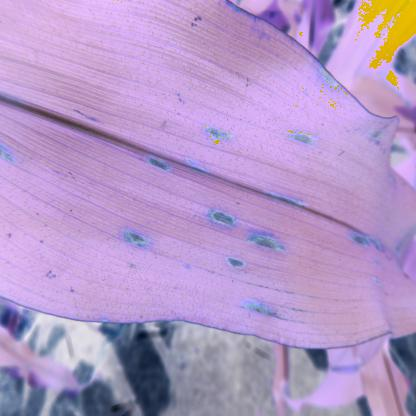Corn leaf blight: (2, 9, 416, 350)
